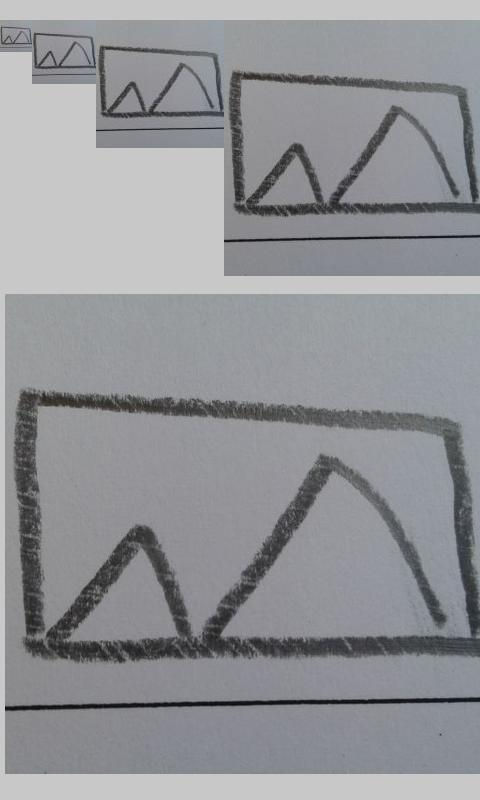image_view: (14, 389, 476, 664), (228, 69, 479, 217), (98, 44, 224, 119), (33, 31, 96, 70), (1, 26, 32, 46)
